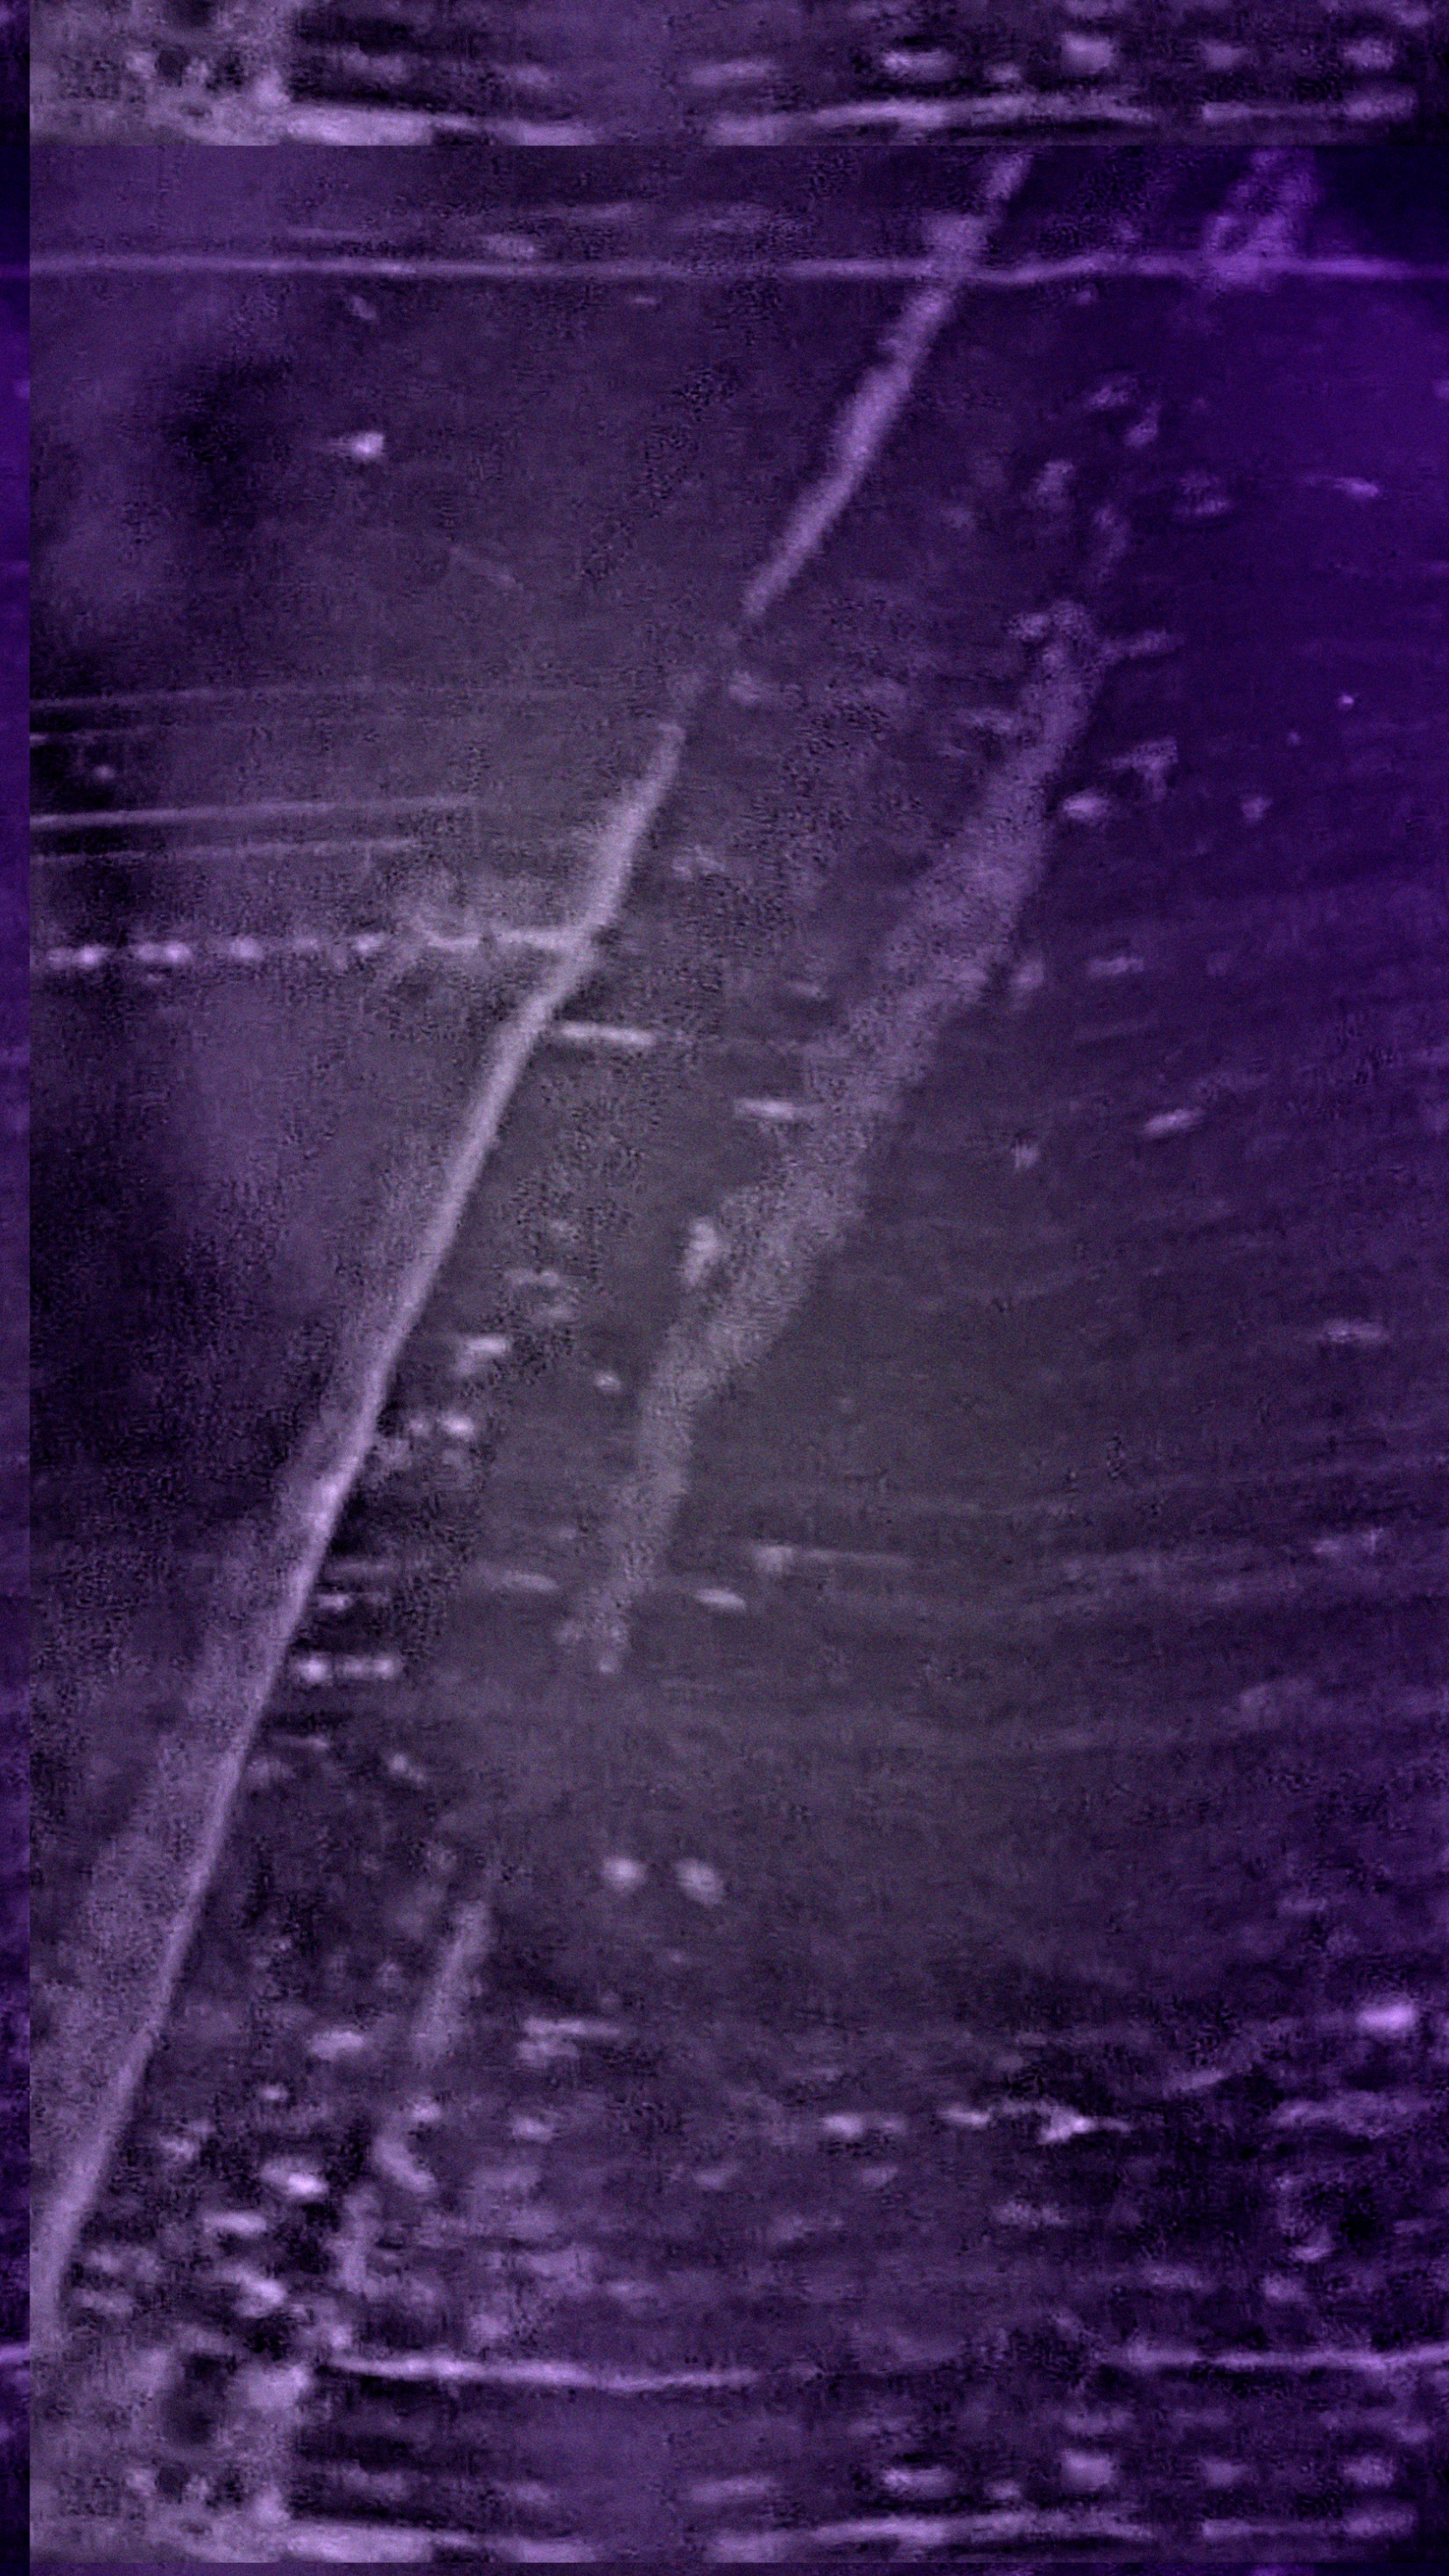splice_vulcanized: (28, 145, 1332, 2562)
